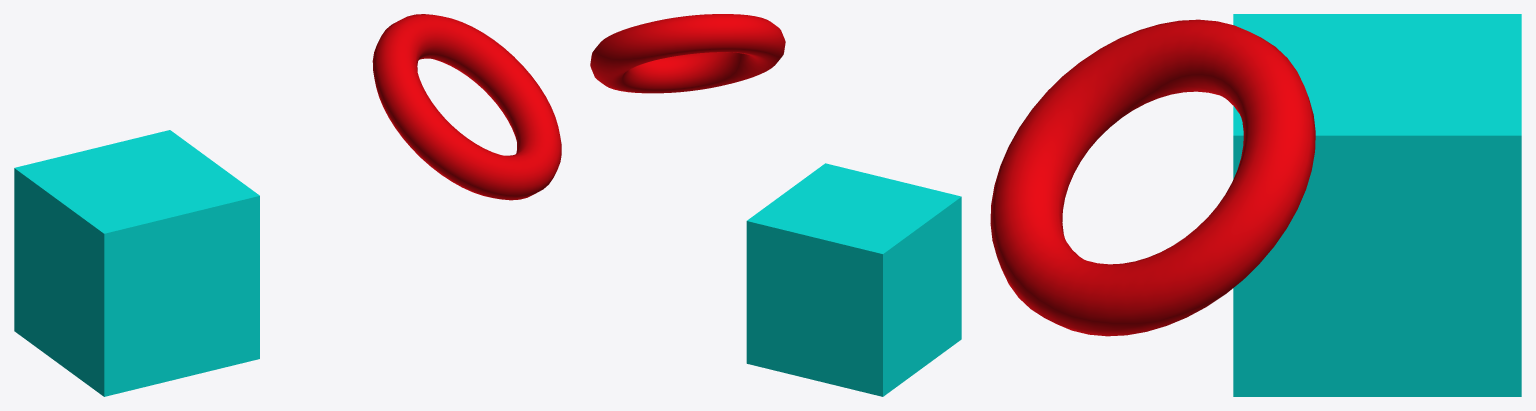
The picture shows the model from 3 angles, left to right: view 1: azimuth 30°, elevation 25°; view 2: azimuth 150°, elevation 25°; view 3: azimuth 270°, elevation 25°; orthographic projection. The views are drawn at different scales.
Parts seen in each view (by area): view 1: Cube, Torus; view 2: Cube, Torus; view 3: Cube, Torus.
Boxes of the visible parts, box(x1,y1,x2,y2) form: Cube: box(14, 130, 259, 396); Torus: box(372, 14, 561, 200); Cube: box(746, 163, 961, 396); Torus: box(590, 14, 785, 93); Cube: box(1233, 14, 1521, 396); Torus: box(990, 19, 1315, 336).
Size of the model in its own units: 5.49 by 3.64 by 3.69.
